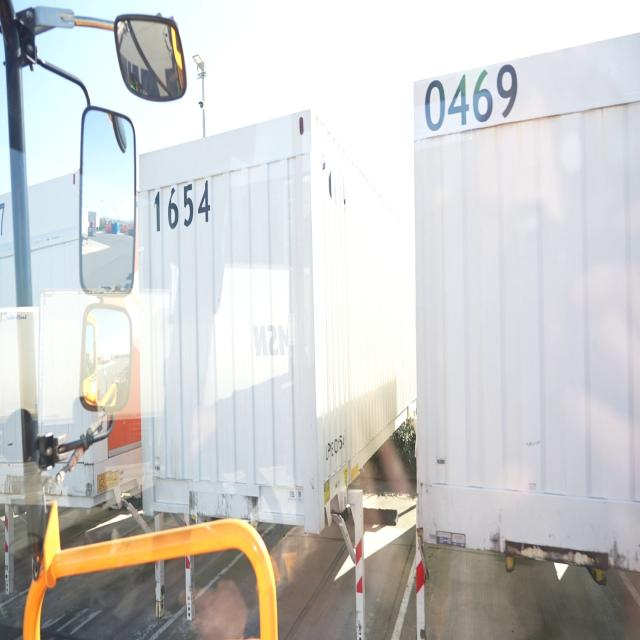Code: (422, 56, 524, 138), (150, 177, 214, 234)
